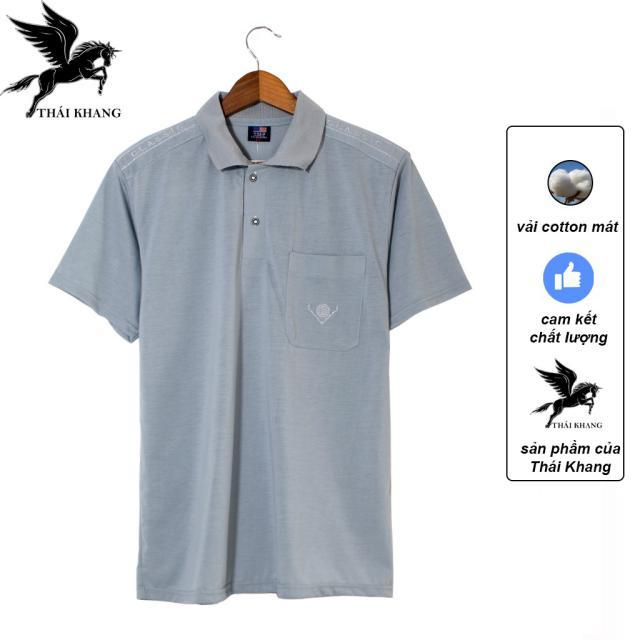Shirt: (41, 78, 476, 613)
